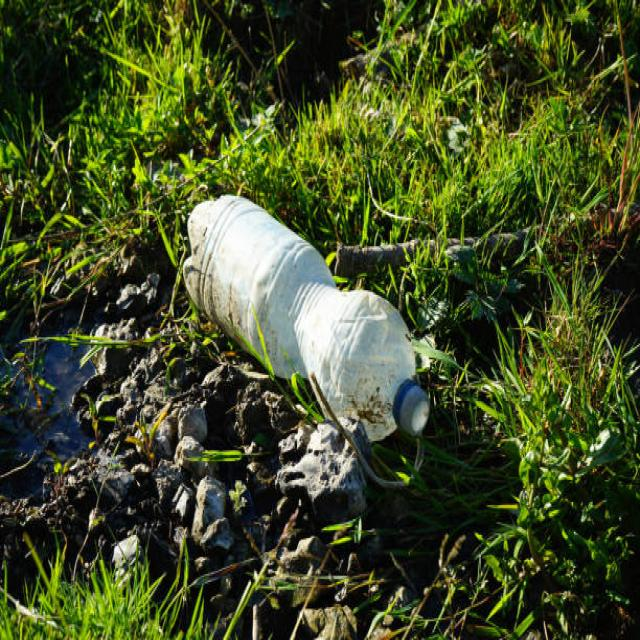plastic: (184, 190, 442, 442)
